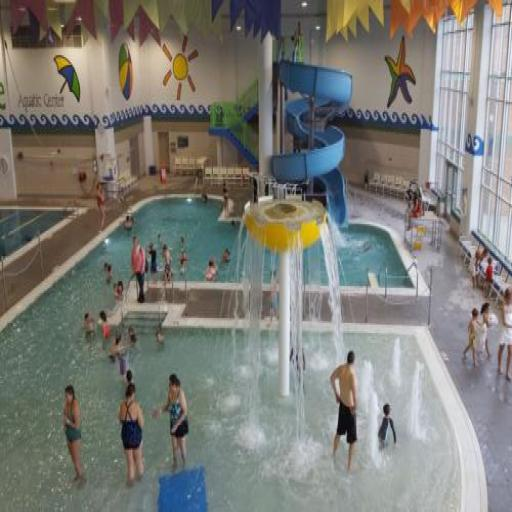swimming: (326, 346, 360, 476), (156, 371, 190, 472), (116, 380, 146, 487), (59, 382, 85, 485), (494, 285, 511, 383), (460, 304, 482, 372), (128, 233, 148, 306), (374, 400, 398, 455)
